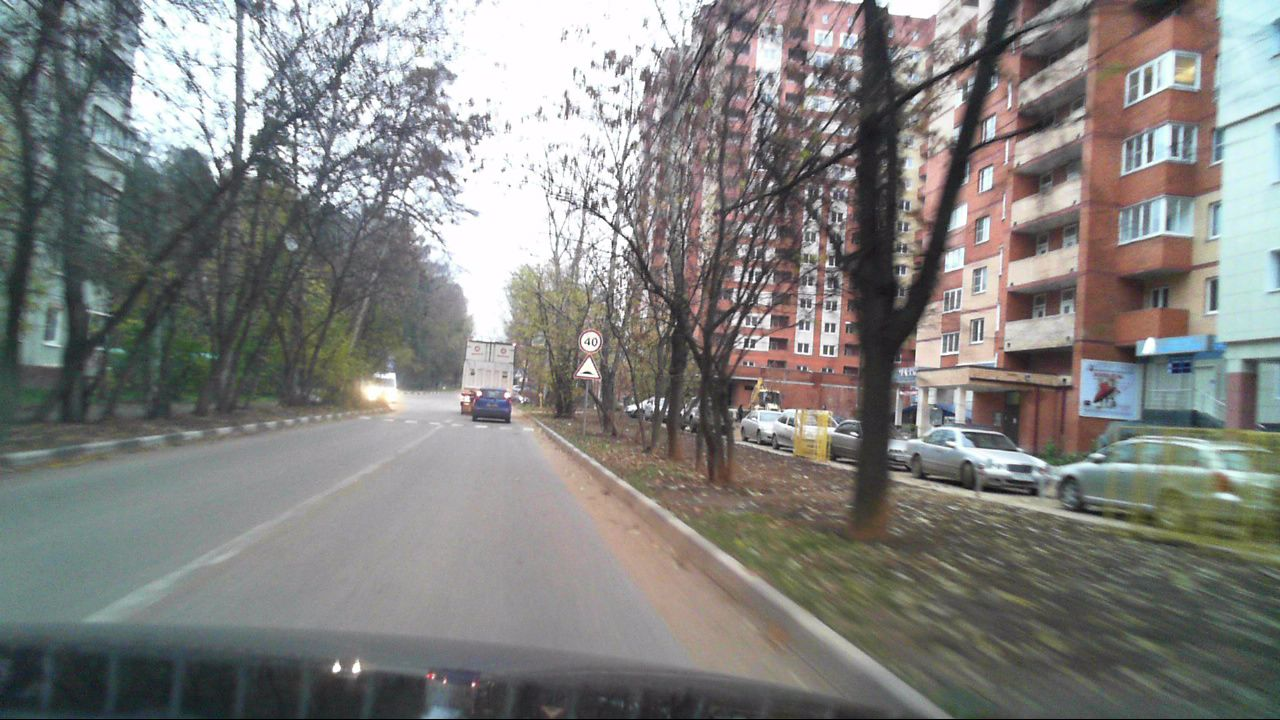speed_warning_40: (577, 329, 602, 353)
